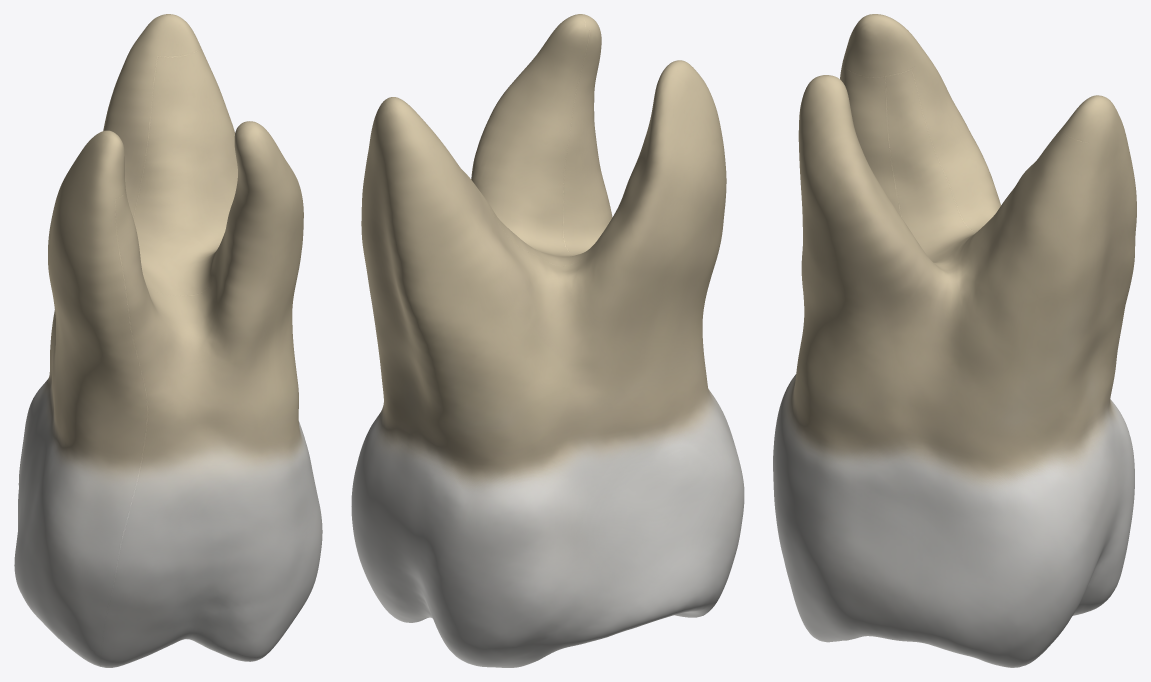
3 renders of one model, left to right at view 1: azimuth 30°, elevation 25°; view 2: azimuth 150°, elevation 25°; view 3: azimuth 270°, elevation 25°, orthographic. The views are drawn at different scales.
Visible parts, largest first — view 1: t26; view 2: t26; view 3: t26.
Part boxes in pixels (x1,y1,x2,y2): t26: [14, 14, 322, 667]; t26: [351, 14, 744, 667]; t26: [773, 14, 1136, 667].
Size of the model in its own units: 11.87 by 20.5 by 11.97.
1 material, 1 textured.
